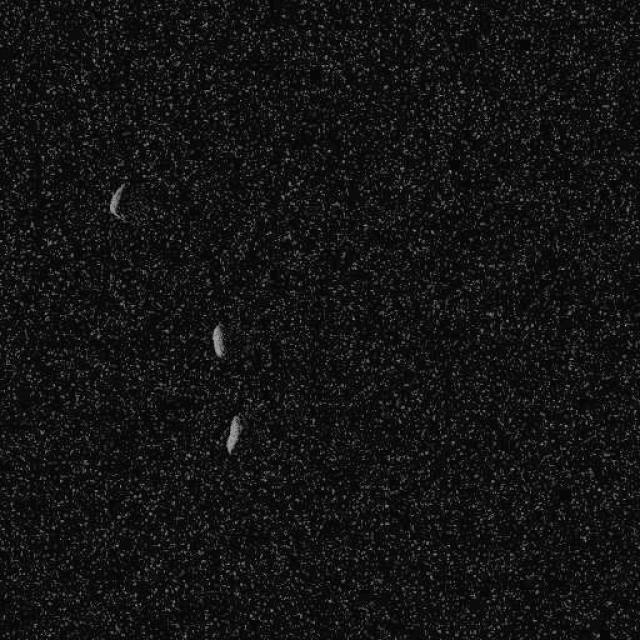D2: (224, 413, 244, 455), (108, 181, 128, 221), (210, 322, 226, 358)
